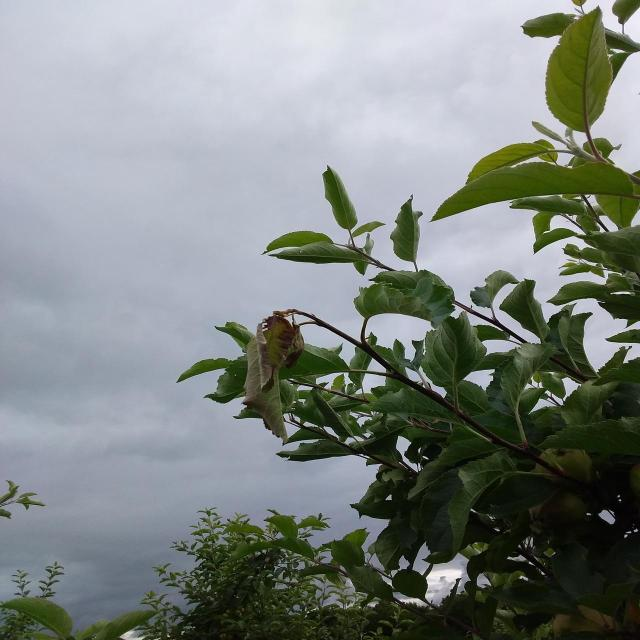-FireBlight-: (240, 306, 303, 444)
